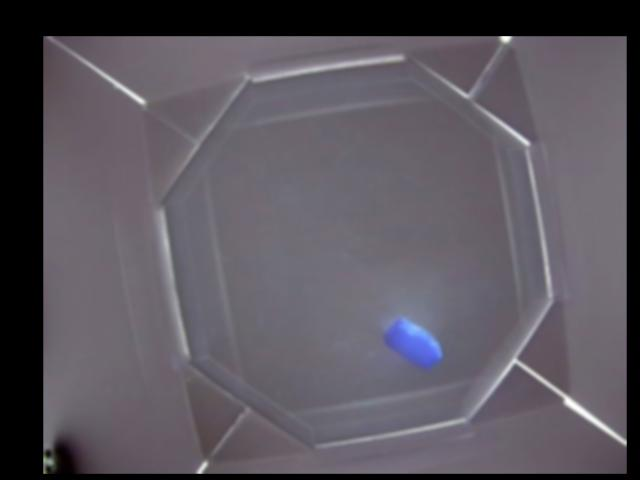Potato: (384, 318, 442, 368)
